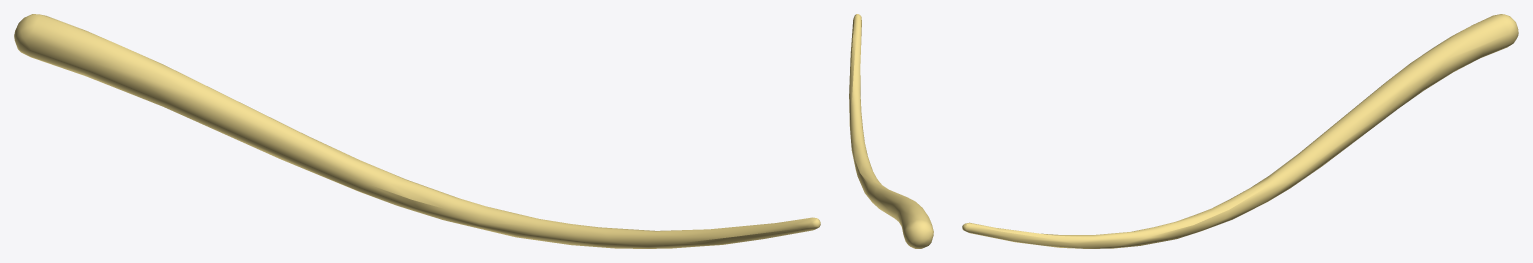
The model's file is fma52992_fj3906.glb.
3 views of the same model, side by side, from view 1: azimuth 30°, elevation 25°; view 2: azimuth 150°, elevation 25°; view 3: azimuth 270°, elevation 25° (orthographic). The views are drawn at different scales.
Parts seen in each view (by area): view 1: FMA52992_FJ3906; view 2: FMA52992_FJ3906; view 3: FMA52992_FJ3906.
Part boxes in pixels (bbox=[...]): FMA52992_FJ3906: bbox=[14, 14, 820, 248]; FMA52992_FJ3906: bbox=[849, 14, 933, 248]; FMA52992_FJ3906: bbox=[962, 14, 1518, 248].
Size of the model in its own units: 0.0116 by 0.00346 by 0.0158.
